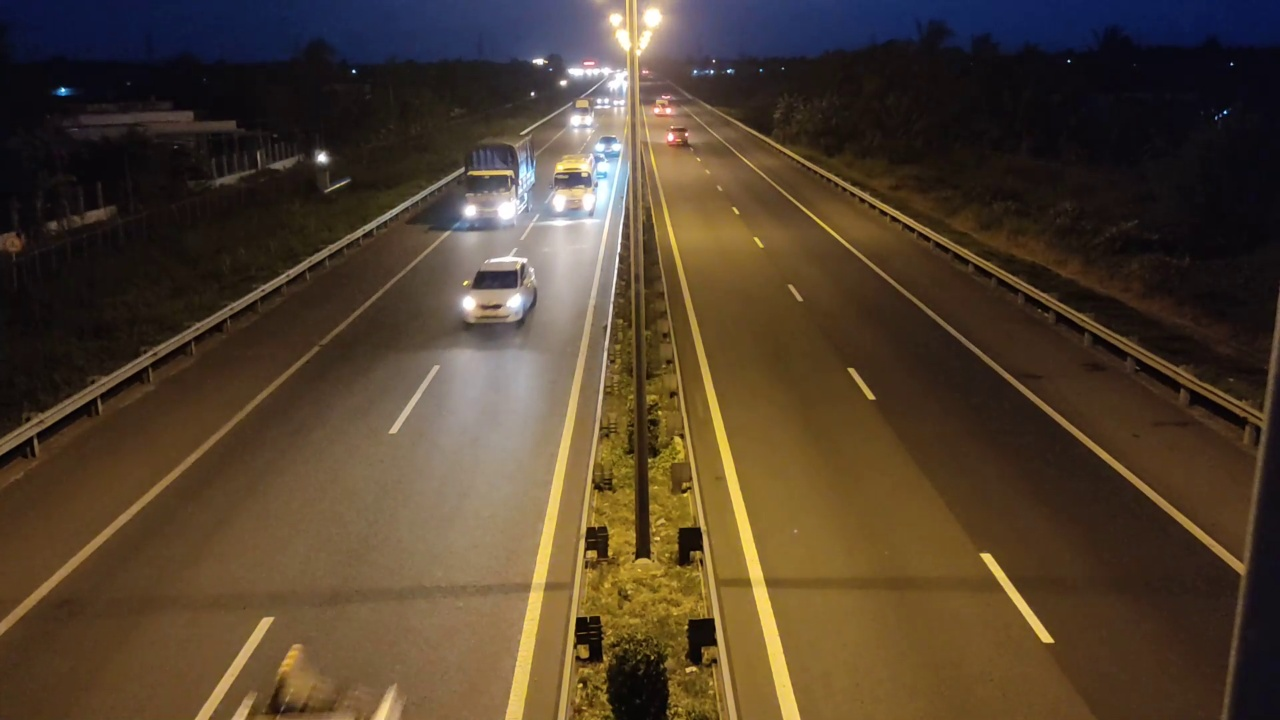car: (460, 254, 539, 327), (663, 125, 689, 147)
truck: (459, 133, 538, 229)
